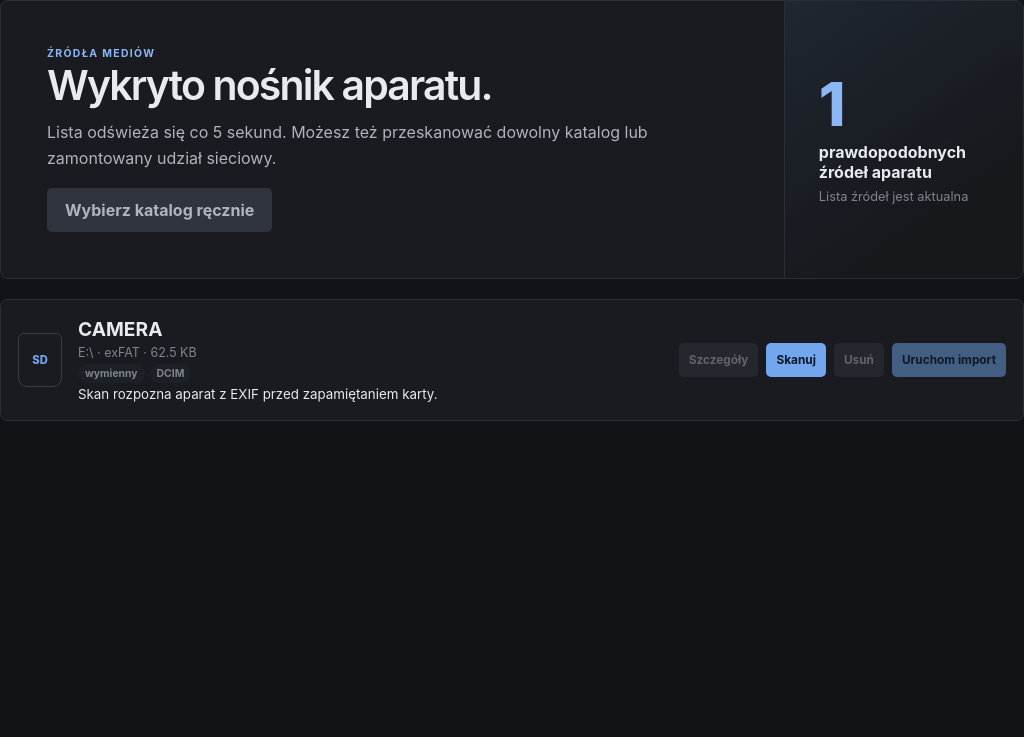
Test: SourceScanner › collapses scanned events, toggles them from the heading and persists the view
Click the button "Skanuj": point(796, 360) [766,342,826,376]
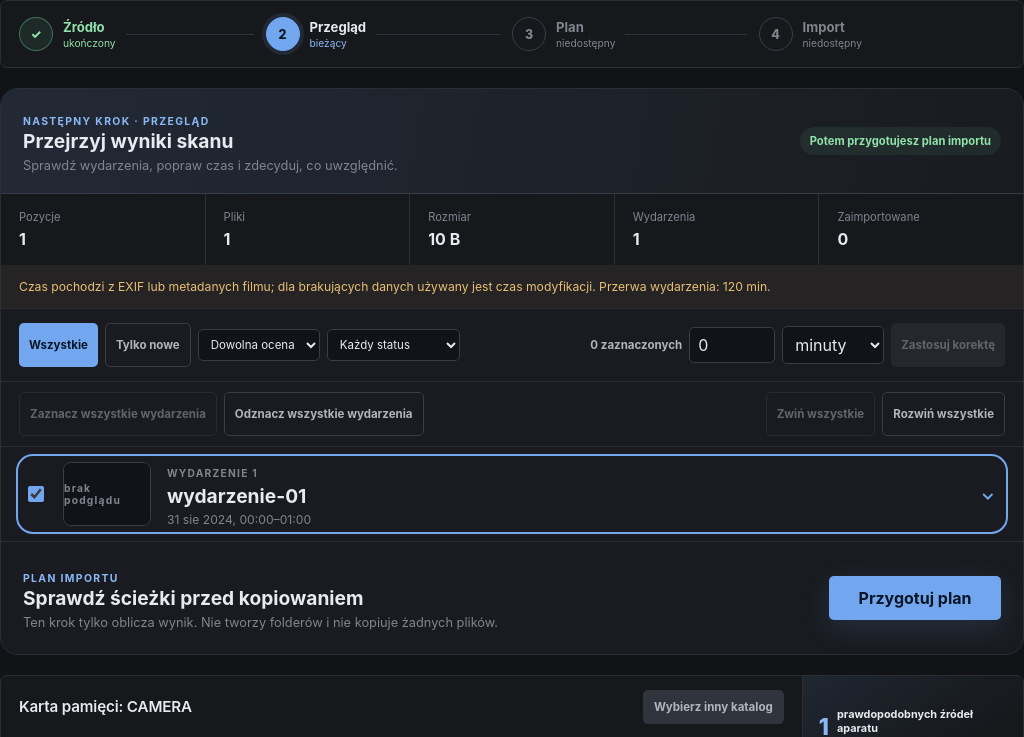
Check: the text "IMG.JPG" is not shown
Check: the text "31 sie 2024, 00:00–01:00" is shown, box [167,512,311,527]
Press Enter
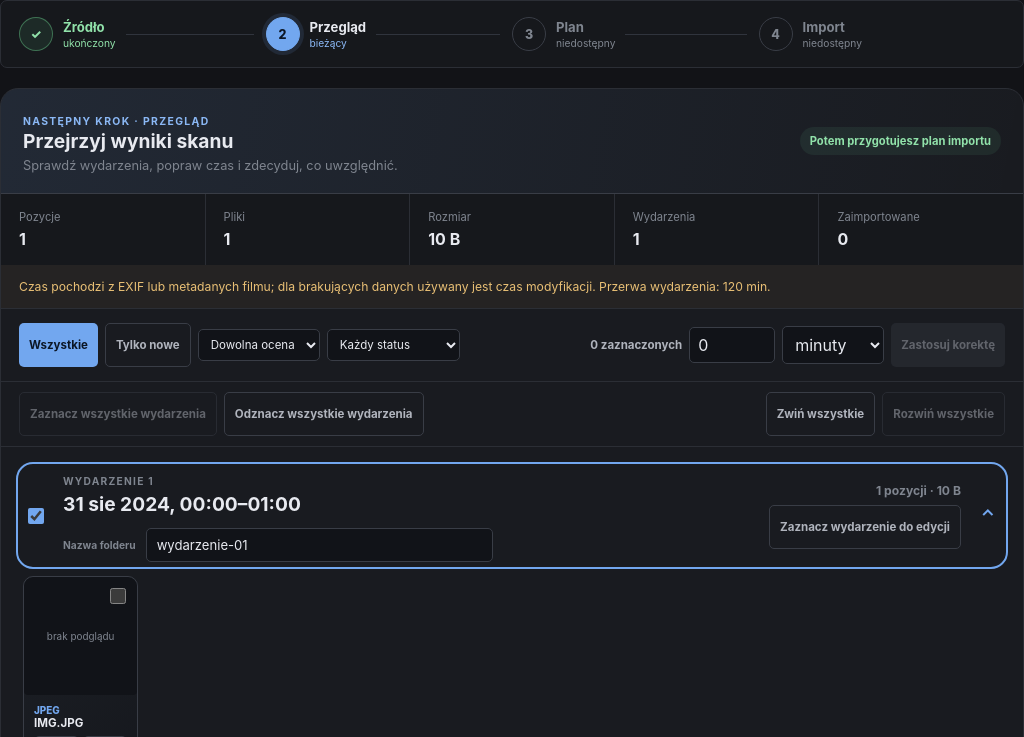
Check: the button with aria-label "Zwiń wydarzenie wydarzenie-01" is expanded, box [23,469,1001,562]
Check: the text "IMG.JPG" is shown, box [34,716,83,730]
Click the button "Zwiń wszystkie": point(820, 414) [766,392,875,436]
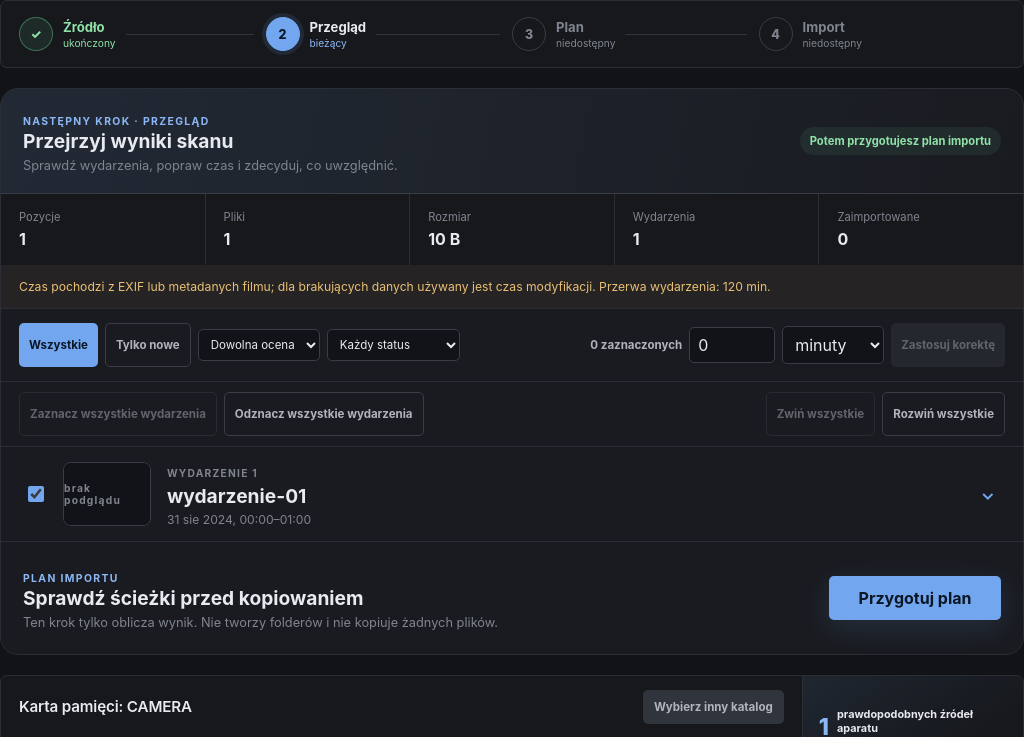
Check: the button "IMG.JPG" is gone
Click the button "Rozwiń wszystkie": point(944, 414) [882,392,1005,436]
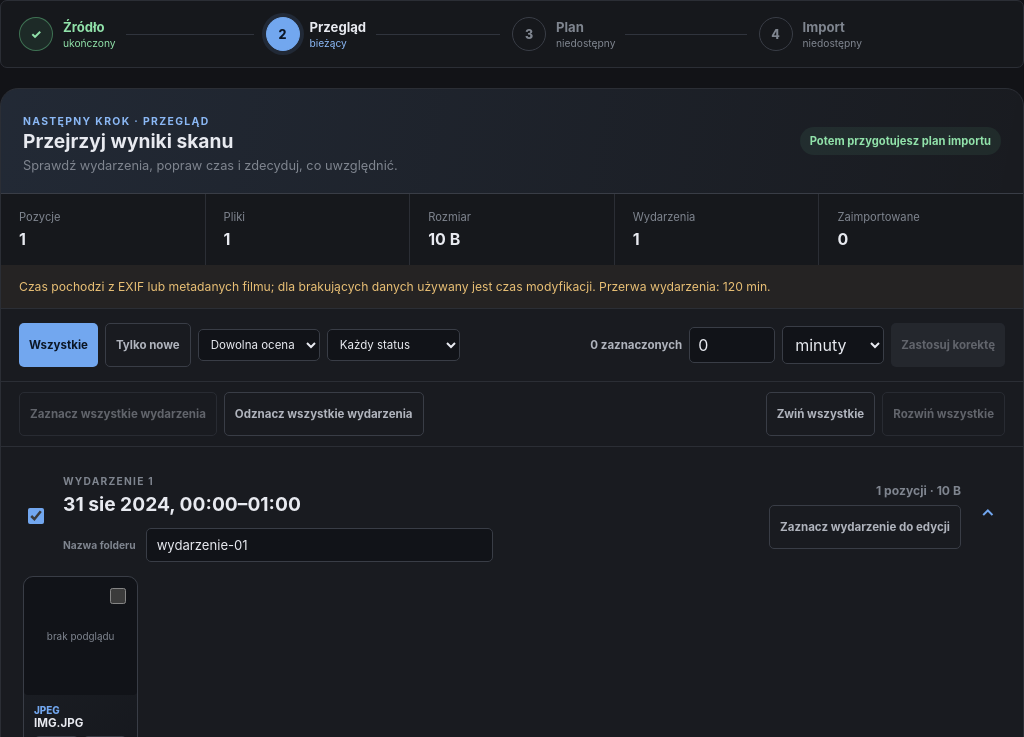
Check: the text "IMG.JPG" is shown, box [34,716,83,730]
